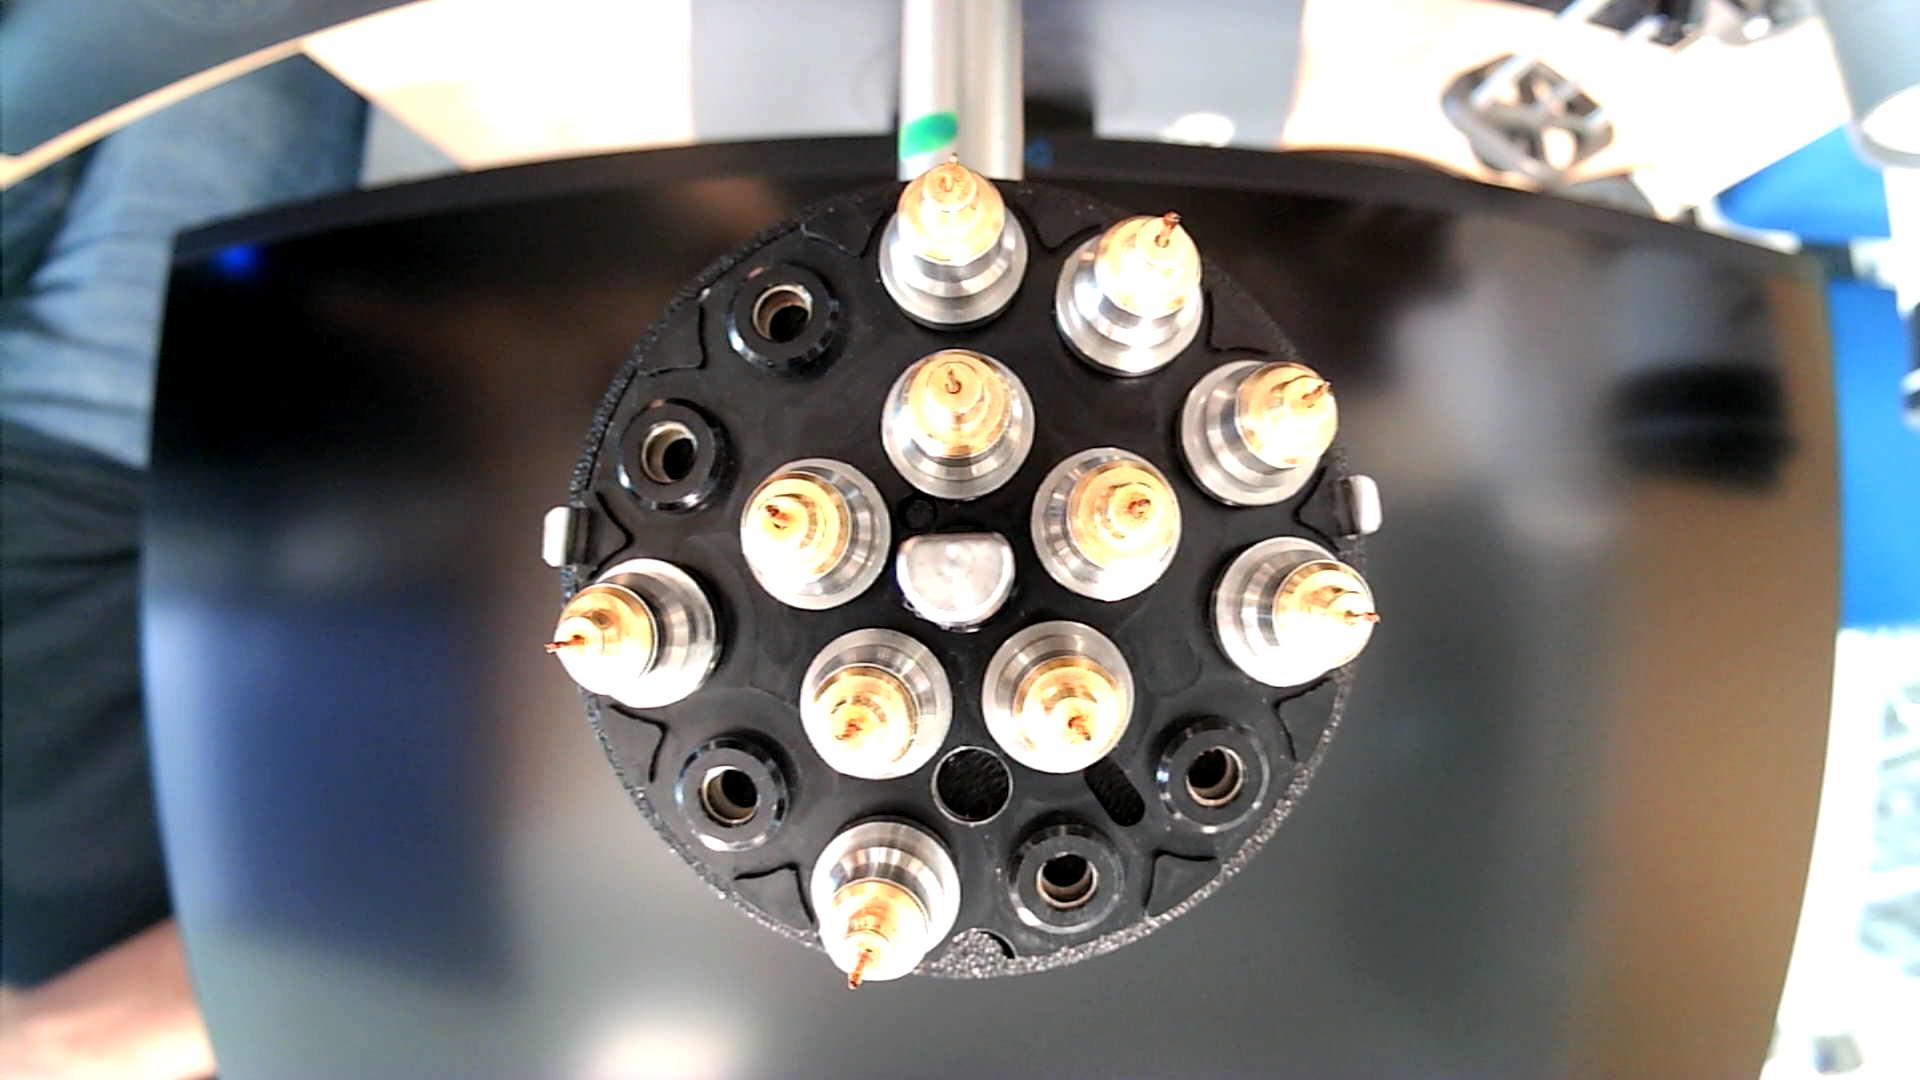empty: (670, 727, 796, 861), (1000, 812, 1126, 942), (1142, 709, 1273, 835), (611, 396, 738, 522), (723, 257, 852, 382)
hole: (928, 745, 1015, 832)
pin: (541, 553, 725, 711), (807, 814, 963, 992), (1205, 533, 1377, 690), (880, 153, 1033, 328), (1055, 208, 1207, 380), (796, 625, 956, 782), (877, 345, 1036, 502), (1029, 446, 1183, 605), (1178, 359, 1337, 513), (977, 621, 1133, 778), (738, 455, 894, 611)
rod: (894, 526, 1018, 637)
